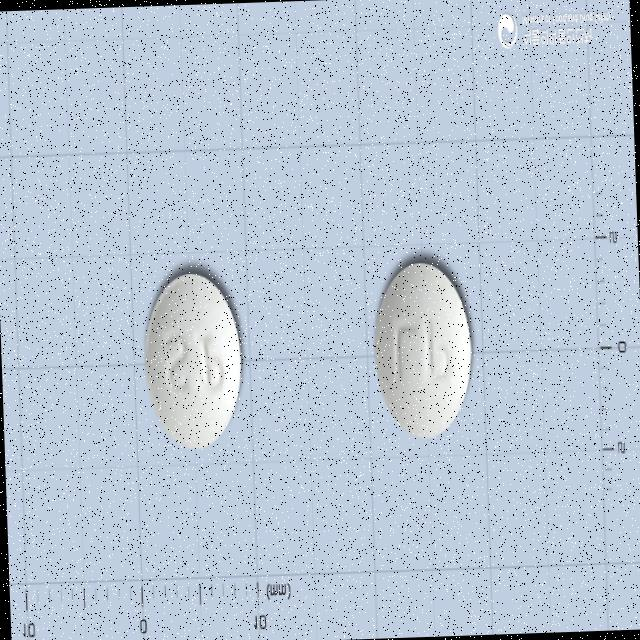Lefocin: (141, 271, 244, 452), (372, 262, 475, 439)
